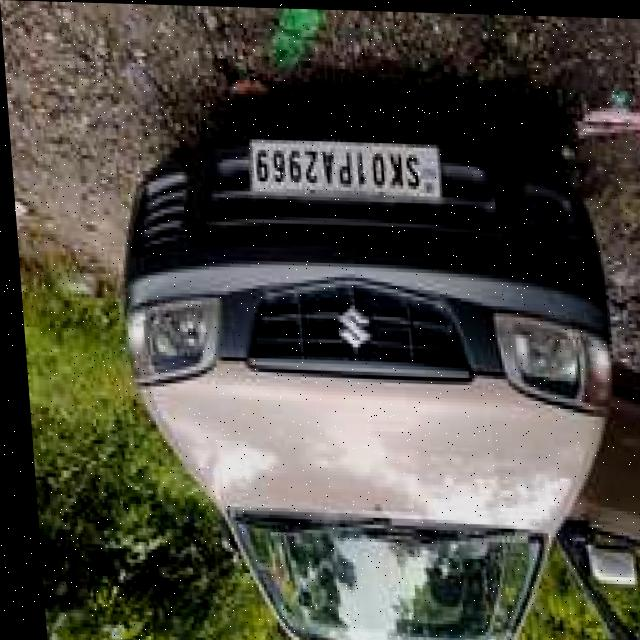plate: (243, 129, 443, 206)
